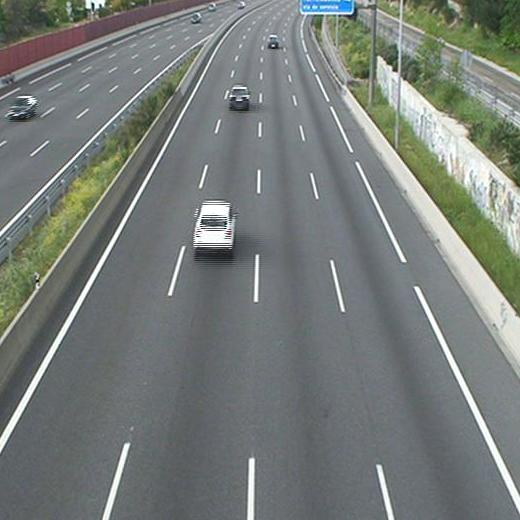car: (192, 201, 234, 249), (229, 86, 250, 105), (267, 35, 279, 48)
